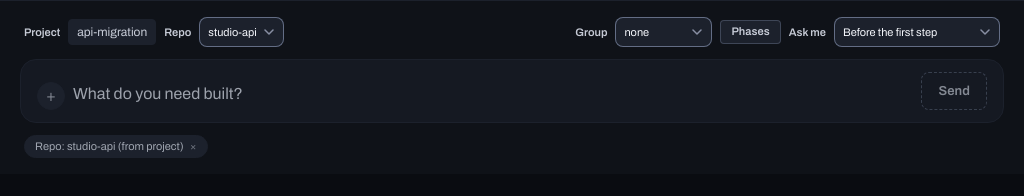
it: ChatInput preflight (§7.8, EC43) › removing the auto chip is the operator speaking — auto never re-attaches
Expected: the element with test id "repo-chip" is shown, 24,135 -> 208,158
Click the button named "Clear Repo: studio-api" at (193, 146), box 190,141 -> 197,152
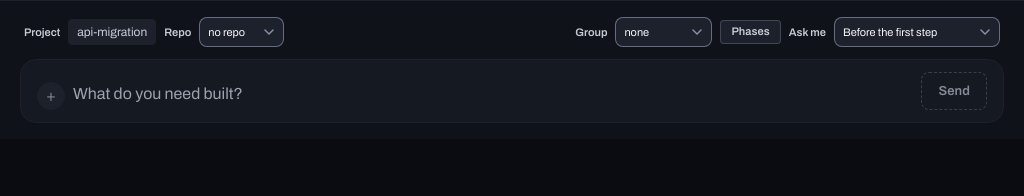
Result: the element with test id "repo-chip" is gone
Type "fix the login bug" into the text box with test id "launch-problem" at (493, 96), box 73,82 -> 914,110
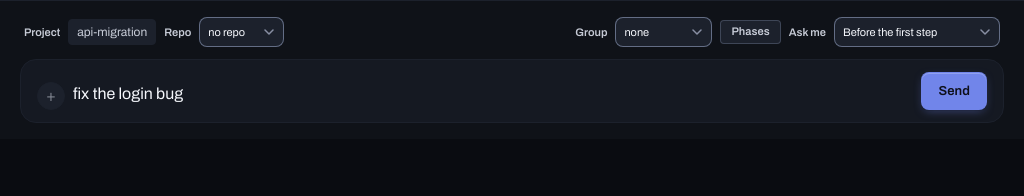
Result: the button with test id "launch-submit" is enabled
Click the button with test id "launch-submit" at (954, 91), box 922,72 -> 987,110
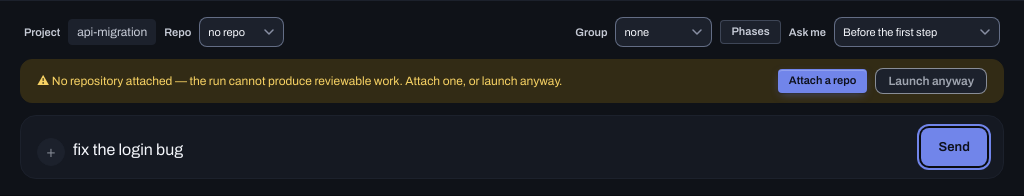
Result: the element with test id "preflight-block" is shown at 20,59 -> 1004,103
